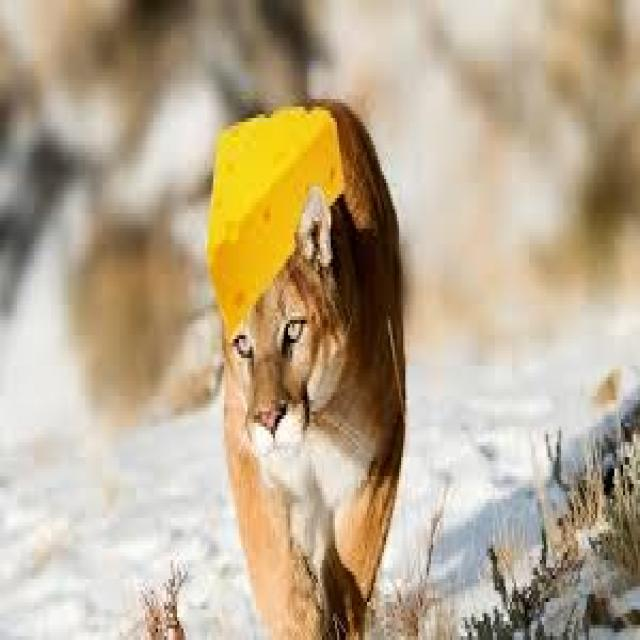Lion: (218, 96, 410, 636)
